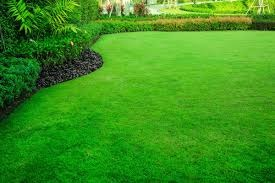grass: (1, 109, 272, 177), (97, 32, 273, 106), (29, 73, 94, 109)
